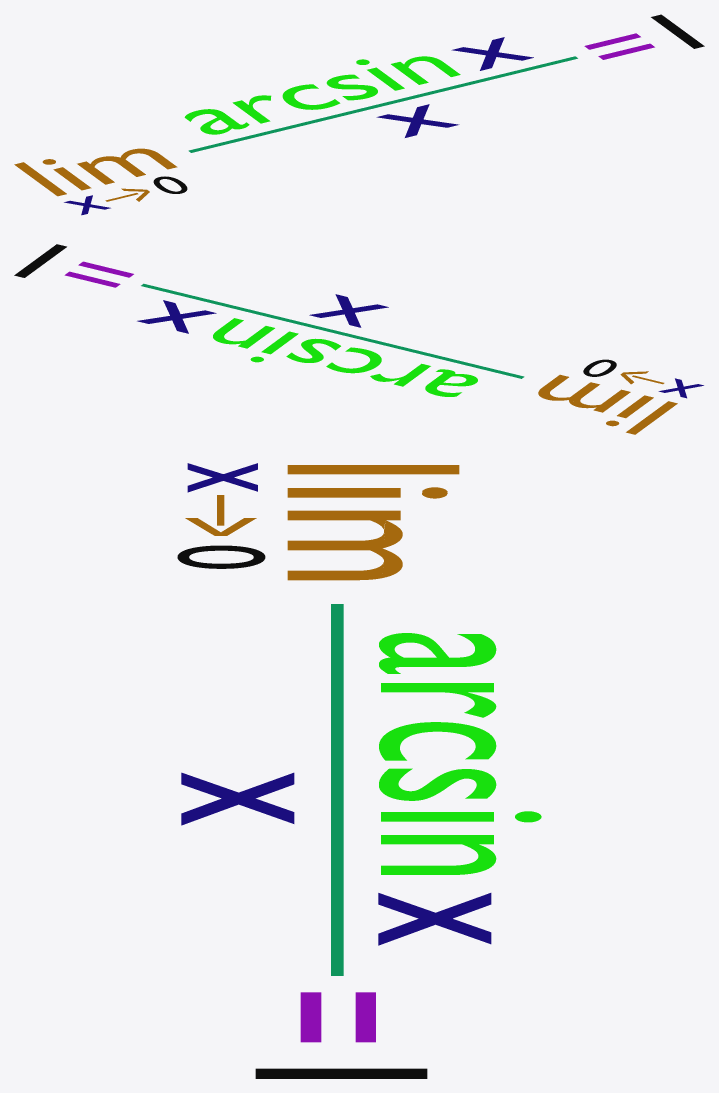
3 renders of one model, top to bottom at view 1: azimuth 30°, elevation 25°; view 2: azimuth 150°, elevation 25°; view 3: azimuth 270°, elevation 25°, orthographic. The views are drawn at different scales.
Visible parts, largest first — view 1: LR 8; view 2: LR 8; view 3: LR 8.
Part boxes in pixels (x1,y1,x2,y2): LR 8: (14, 14, 704, 215); LR 8: (14, 244, 703, 434); LR 8: (177, 463, 541, 1078).
Bounding box in the file's own units: 5.79 × 0.00111 × 1.45.
